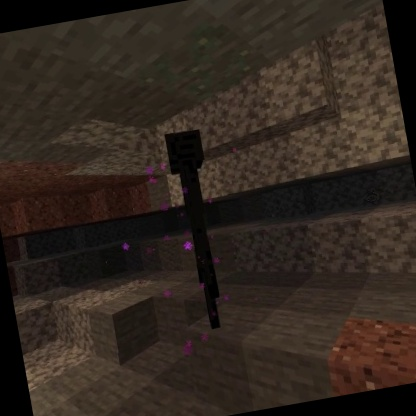enderman: (161, 126, 238, 336)
